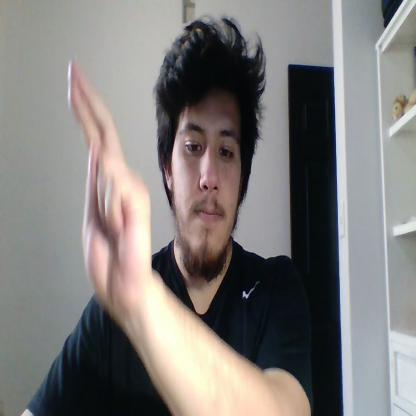R: (68, 57, 152, 316)
